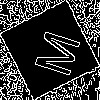M: (25, 25, 81, 79)
